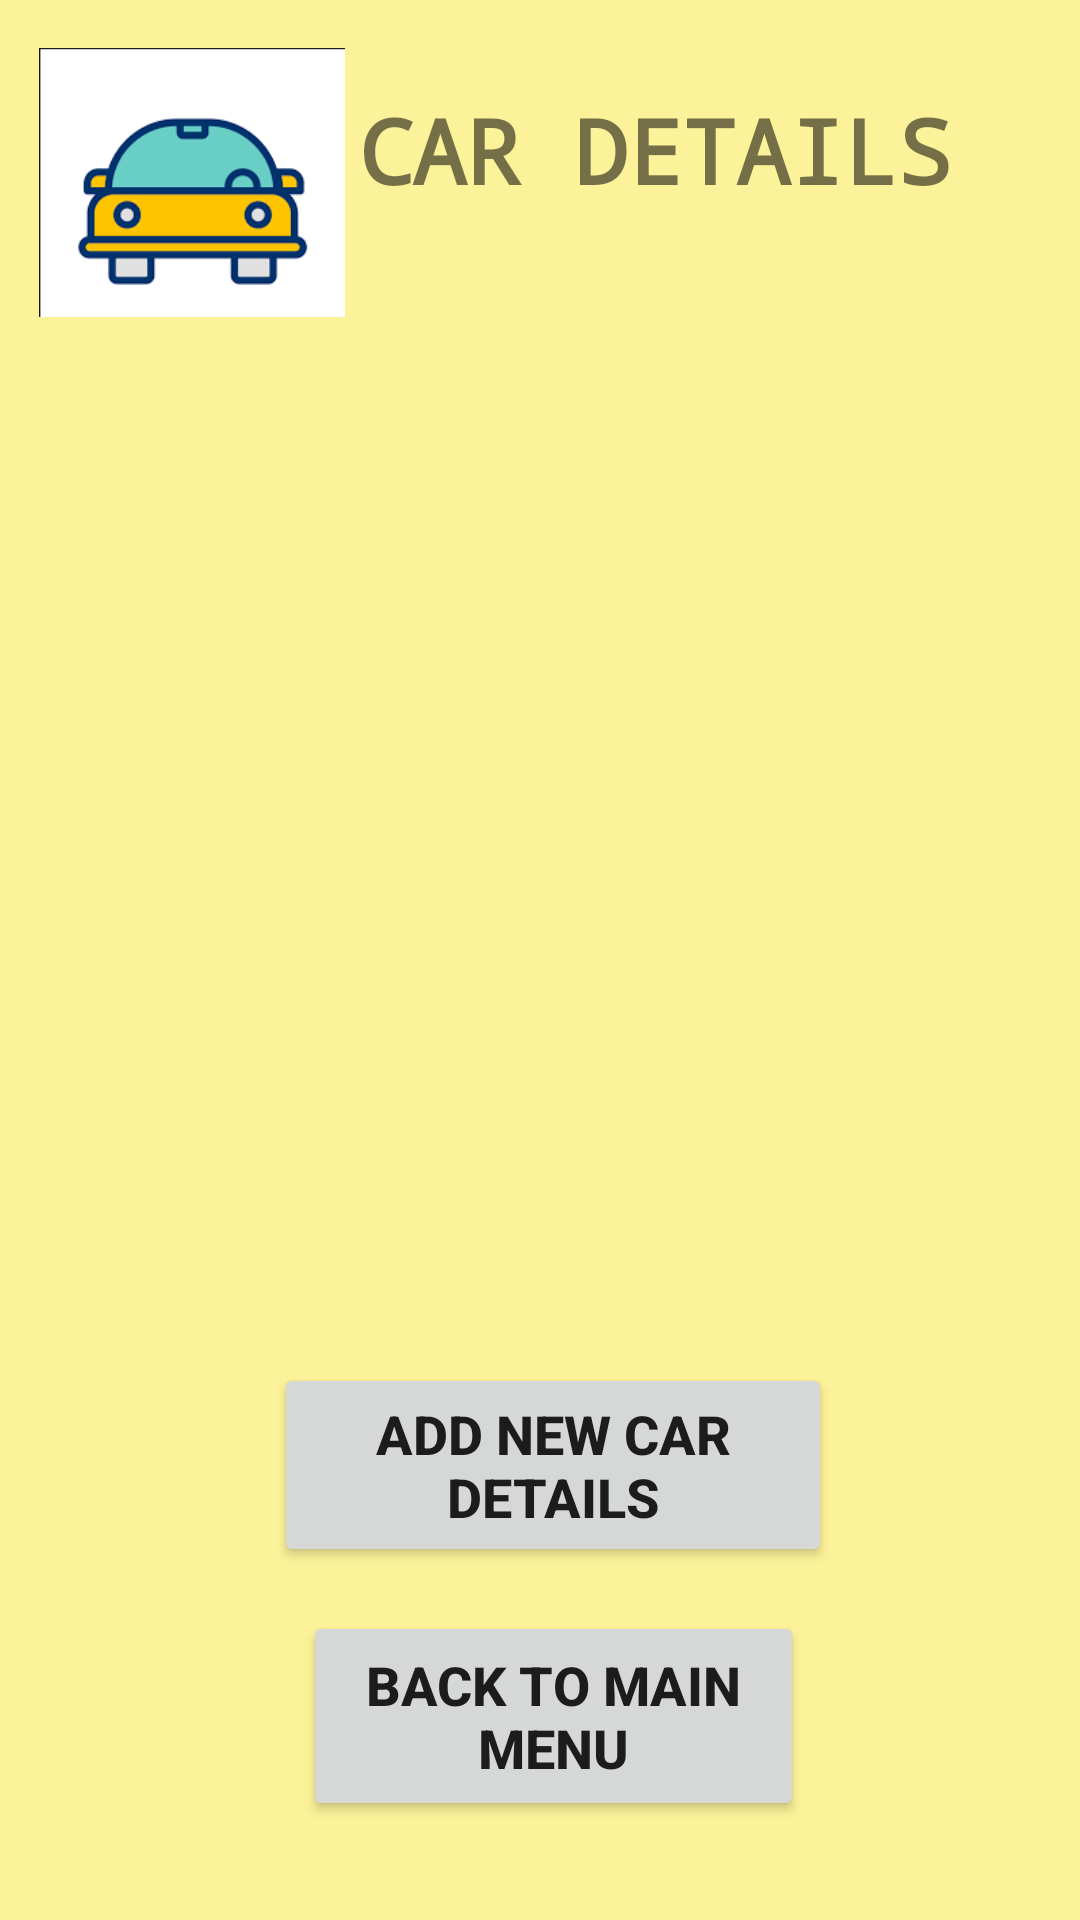

Point at icon controls on the screen. Image size 1080px×1920px, points as (x,y).
caricon: (192,182)
